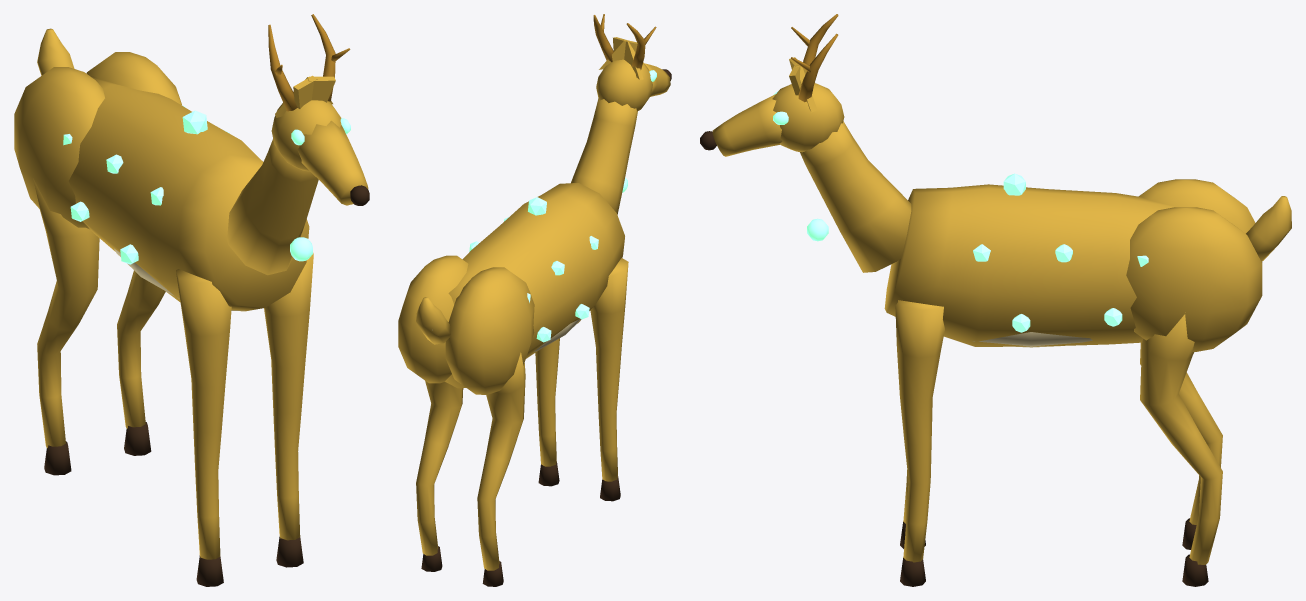
Rendered from kijang.glb.
The picture shows the model from 3 angles, left to right: view 1: azimuth 30°, elevation 25°; view 2: azimuth 150°, elevation 25°; view 3: azimuth 270°, elevation 25°; orthographic projection. The views are drawn at different scales.
Visible parts, largest first — view 1: body_mesh, head_mesh, arm_r_mesh, leg_r_mesh, arm_l_mesh, leg_l_mesh, tail_mesh; view 2: body_mesh, head_mesh, arm_r_mesh, leg_r_mesh, leg_l_mesh, arm_l_mesh, tail_mesh; view 3: body_mesh, head_mesh, arm_l_mesh, leg_l_mesh, leg_r_mesh, tail_mesh.
Part boxes in pixels (box(x1,y1,x2,y2)): body_mesh: box(14, 52, 309, 311); head_mesh: box(227, 14, 369, 275); arm_r_mesh: box(176, 269, 231, 586); leg_r_mesh: box(33, 178, 99, 475); arm_l_mesh: box(264, 253, 313, 567); leg_l_mesh: box(117, 270, 165, 455); tail_mesh: box(37, 28, 74, 75); body_mesh: box(398, 183, 624, 394); head_mesh: box(571, 14, 671, 214); arm_r_mesh: box(590, 258, 628, 501); leg_r_mesh: box(477, 352, 525, 586); leg_l_mesh: box(416, 381, 463, 571); arm_l_mesh: box(535, 338, 559, 486); tail_mesh: box(416, 297, 450, 344); body_mesh: box(884, 173, 1262, 351); head_mesh: box(700, 14, 911, 272); arm_l_mesh: box(895, 300, 944, 586); leg_l_mesh: box(1140, 312, 1222, 586); leg_r_mesh: box(1140, 342, 1222, 549); tail_mesh: box(1246, 196, 1291, 261).
Size of the model in its own units: 0.46 by 1.81 by 1.8.
